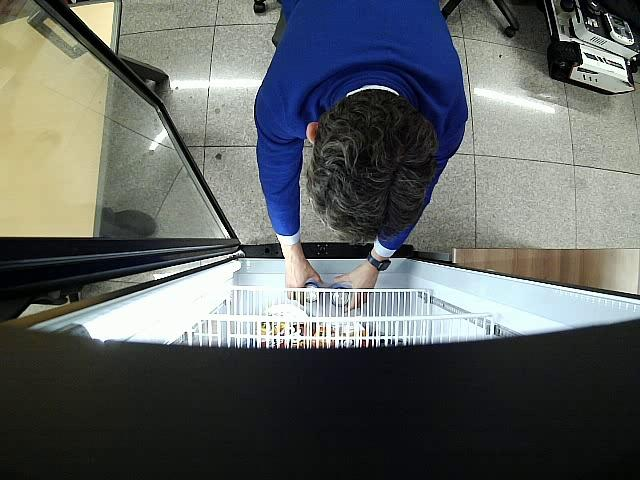00_hand: (282, 245, 323, 306), (333, 261, 378, 313)
